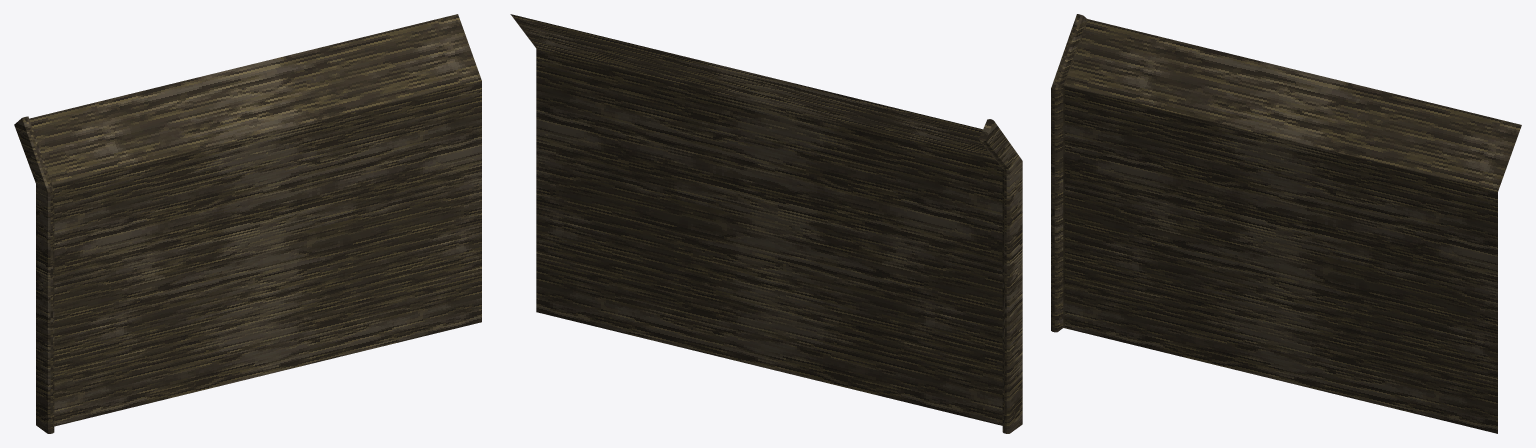
File: WoodFence.glb
The picture shows the model from 3 angles, left to right: view 1: azimuth 30°, elevation 25°; view 2: azimuth 150°, elevation 25°; view 3: azimuth 330°, elevation 25°; orthographic projection. The views are drawn at different scales.
Parts seen in each view (by area): view 1: Plane; view 2: Plane; view 3: Plane.
Part boxes in pixels (x1,y1,x2,y2): Plane: (14, 14, 481, 433); Plane: (510, 14, 1022, 433); Plane: (1051, 14, 1521, 433).
Bounding box in the file's own units: 3.81 × 2.46 × 0.5213.
Materials: 1 (1 with a texture image).
